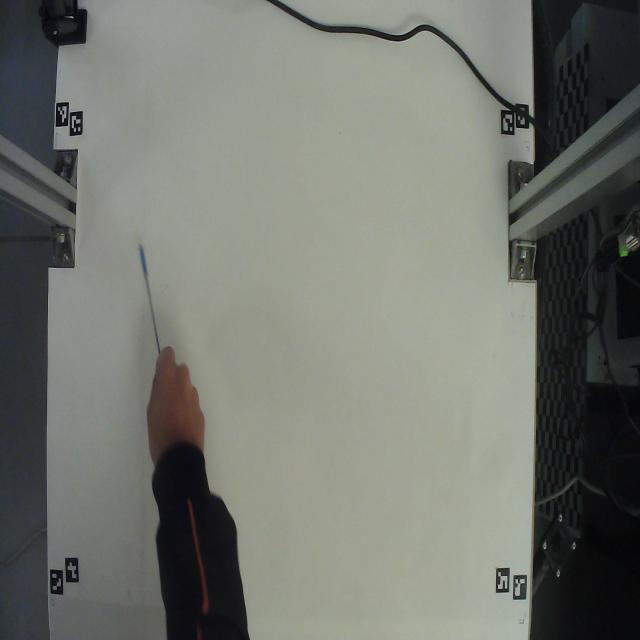NoPres: (126, 214, 172, 368)
